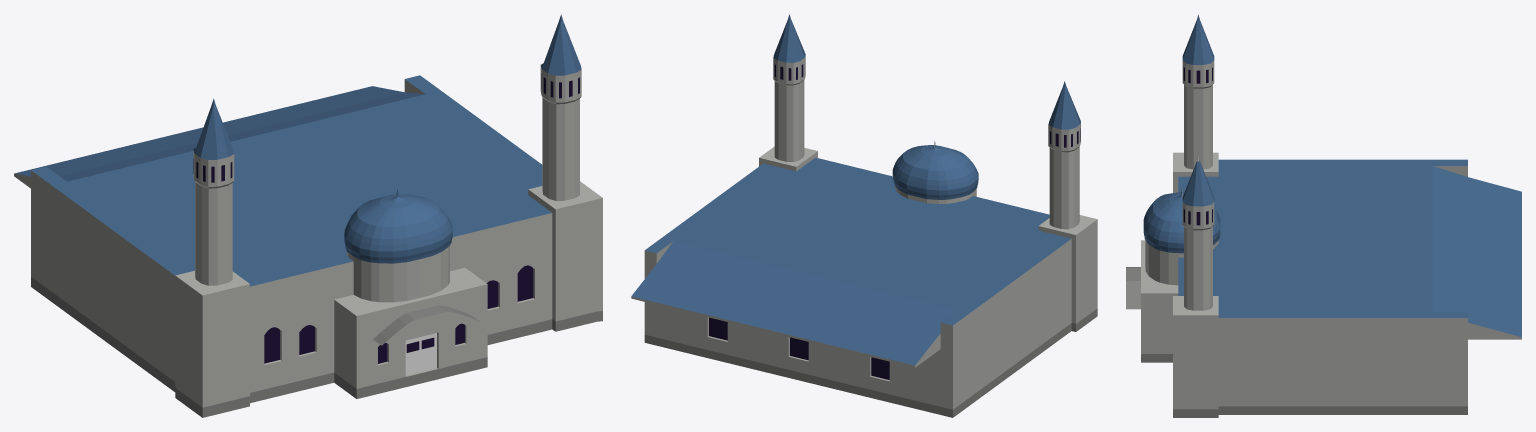
File: Мечеть.glb
3 renders of one model, left to right at view 1: azimuth 30°, elevation 25°; view 2: azimuth 150°, elevation 25°; view 3: azimuth 270°, elevation 25°, orthographic. The views are drawn at different scales.
Parts seen in each view (by area): view 1: Areas:building; view 2: Areas:building; view 3: Areas:building.
Boxes of the visible parts, box(x1,y1,x2,y2) form: Areas:building: box(14, 14, 602, 417); Areas:building: box(631, 14, 1097, 417); Areas:building: box(1126, 14, 1521, 417).
Bounding box in the file's own units: 28.73 × 20.78 × 29.55.
